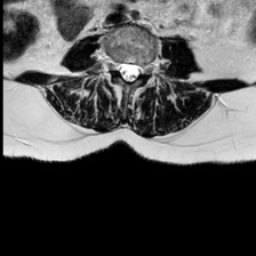CCS_normal: (125, 51, 132, 91)
LFS_normal: (140, 52, 149, 83)
LLS_normal: (132, 55, 141, 85)
RFS_normal: (109, 48, 117, 78)
RLS_normal: (117, 52, 125, 81)
